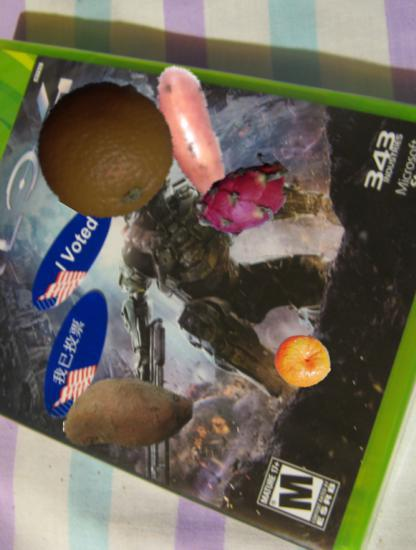Banana: (113, 63, 260, 210)
Mandarine: (274, 331, 333, 390)
Orange: (36, 77, 177, 218)
Pitahaya: (198, 151, 299, 252)
Potato: (63, 346, 196, 479)
